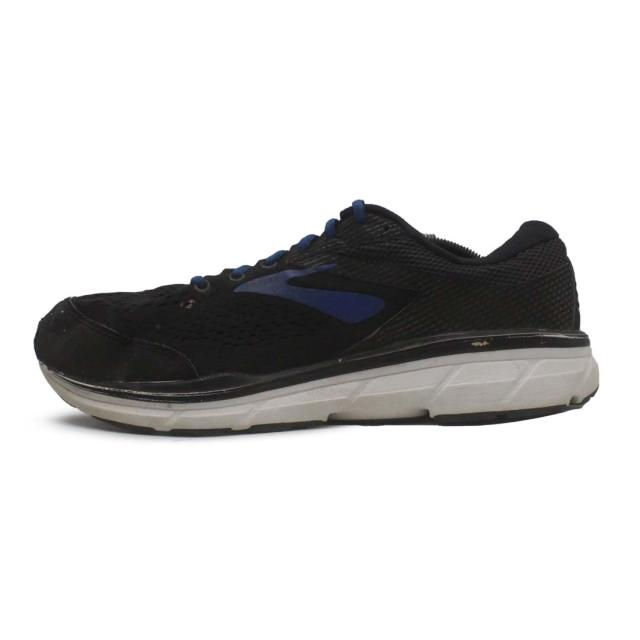heel: (490, 222, 579, 342)
midsole: (33, 331, 599, 427)
uppersole: (33, 195, 502, 381)
